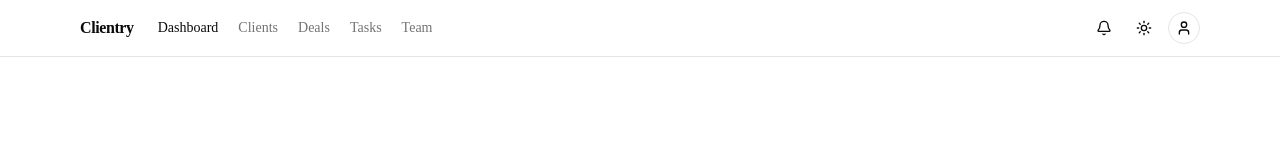
ShellHeader › should leave out the workspace and offer only Log out when the session fails
This screenshot has width=1280, height=160.
Click the button named "Account" at (1184, 28), box [1168,12,1200,44]
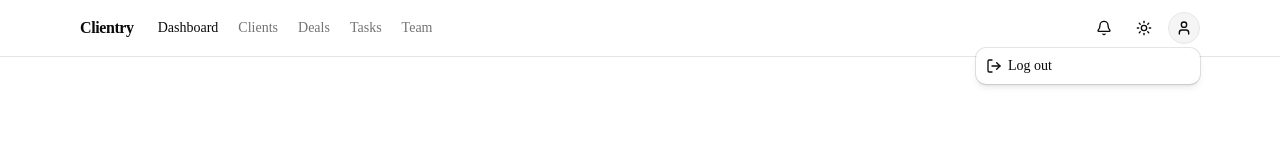
Now the menu items read "Log out", in this order, box [986,58,1052,74]
